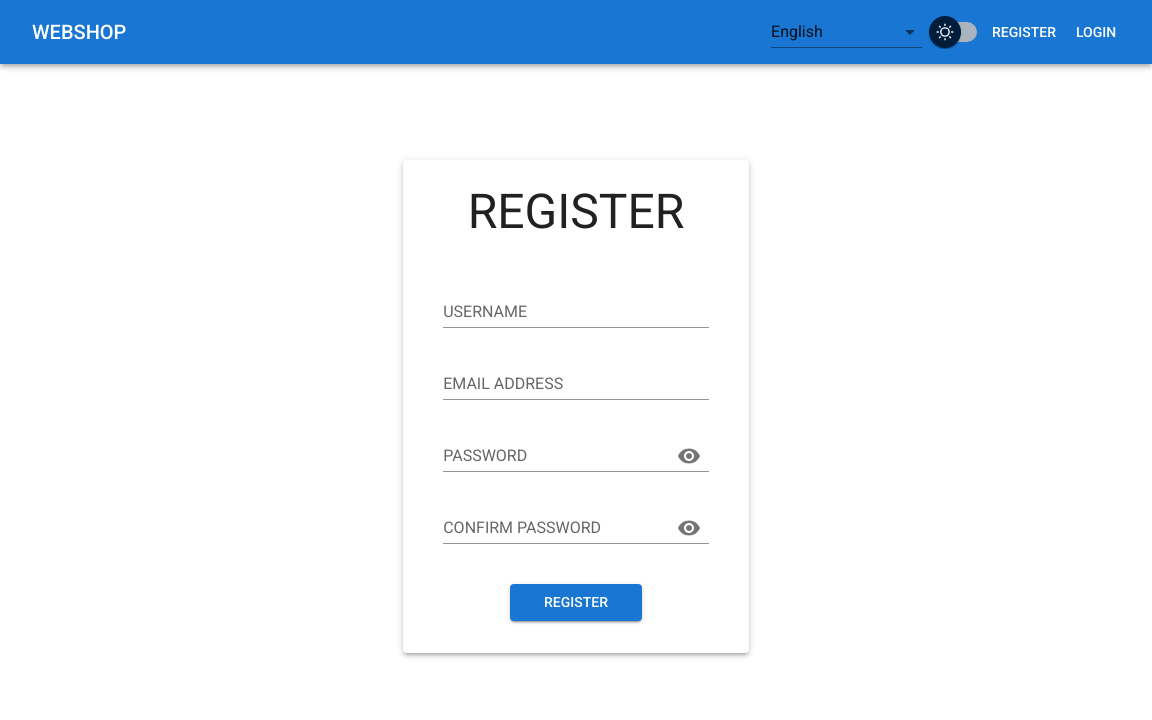
Test case: Register page test › should show error messages when input is empty
Step 1. Click the button with id "btn-register" → (577, 603), box [510, 584, 643, 621]
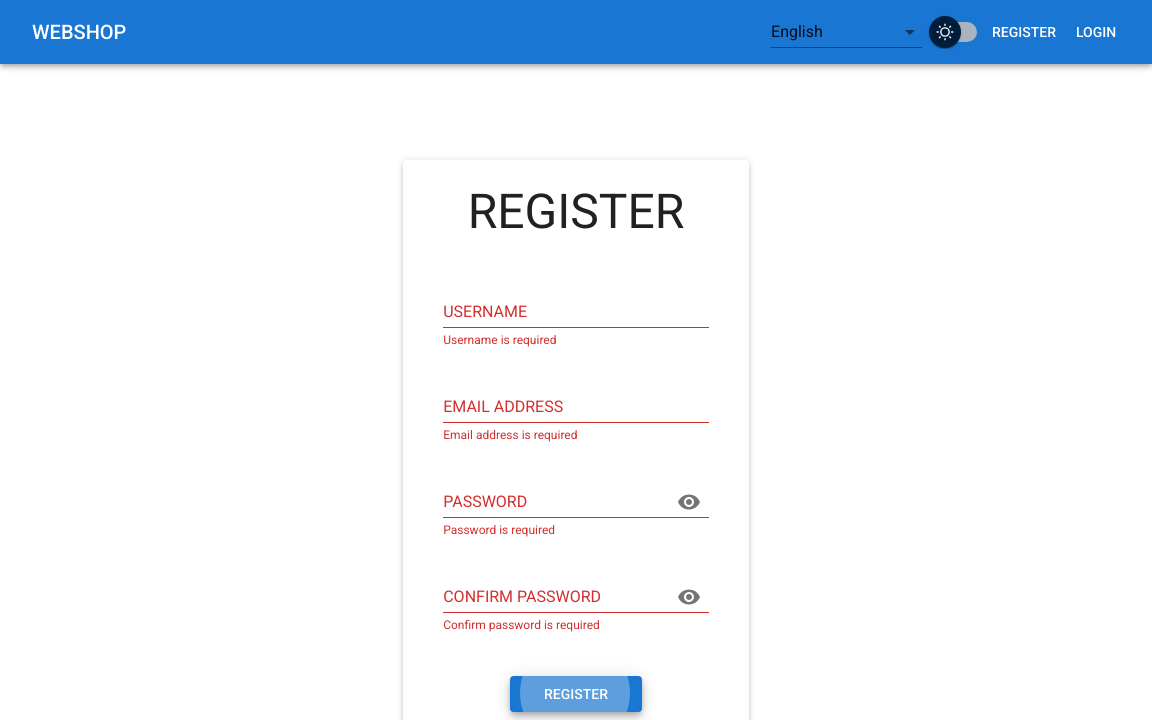
Expected: the text "Username is required" is shown, [443, 333, 556, 347]
Expected: the text "Email address is required" is shown, [443, 428, 578, 442]
Expected: the text "Password is required" is shown, [443, 523, 555, 537]
